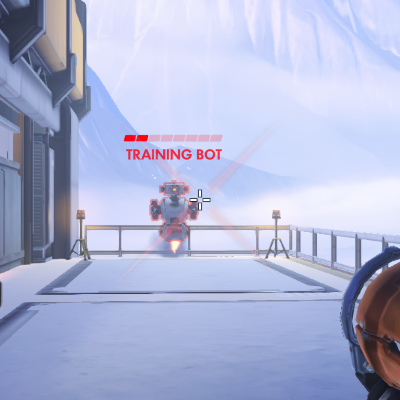hpbar: (123, 134, 223, 142)
